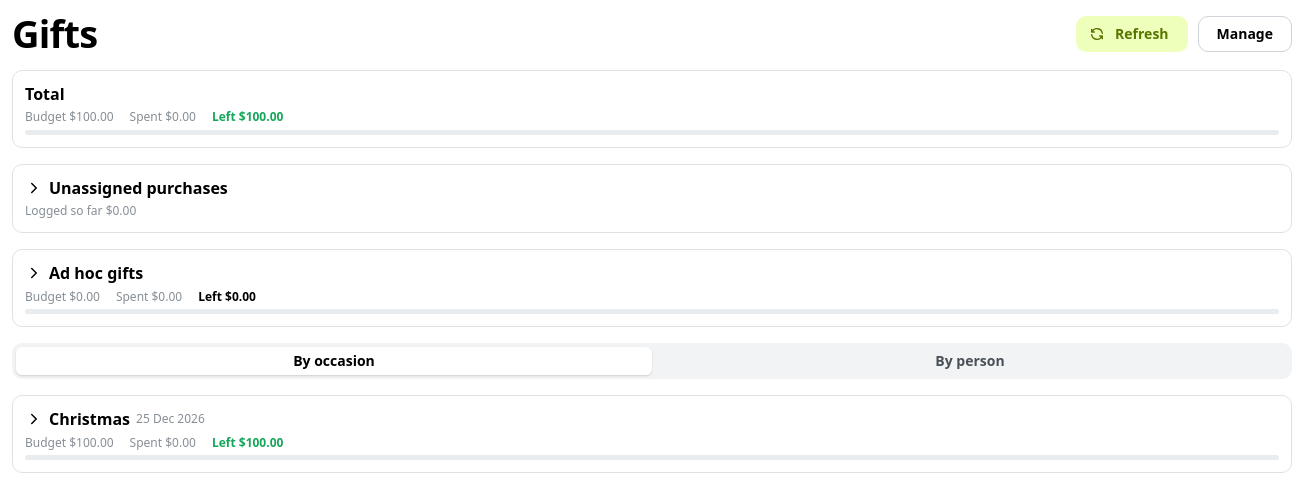
Test: GiftsScreen grouping toggle › regroups by person when the toggle is switched
The image size is (1304, 490).
Click the radio button labelled "By person".
click(970, 361)  # box [935,352,1005,370]
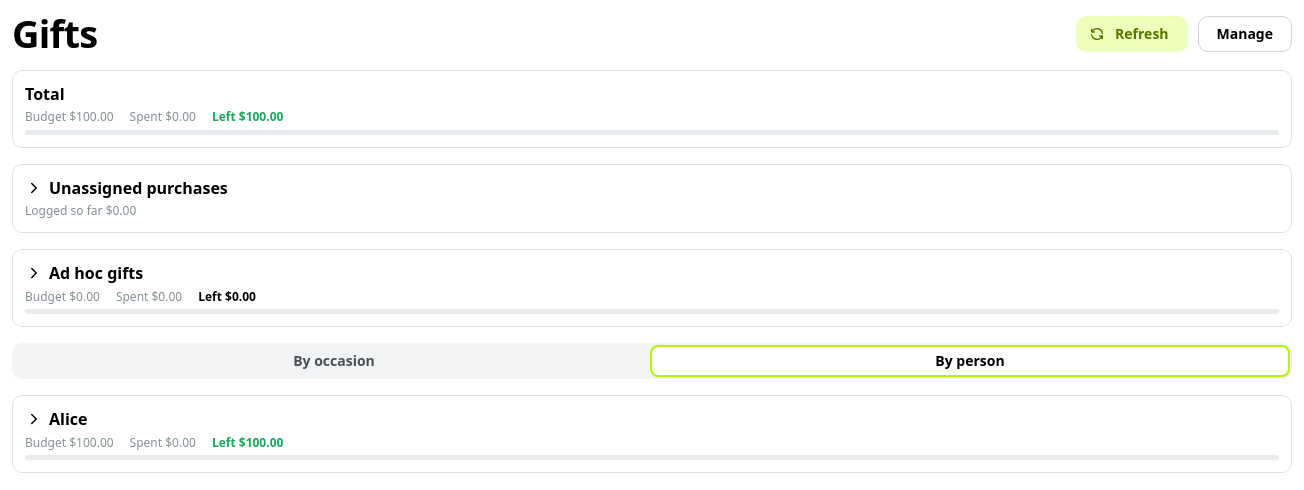
Expected: the heading "Alice" is shown, [49,408,88,430]
Expected: the button "Christmas" is gone
